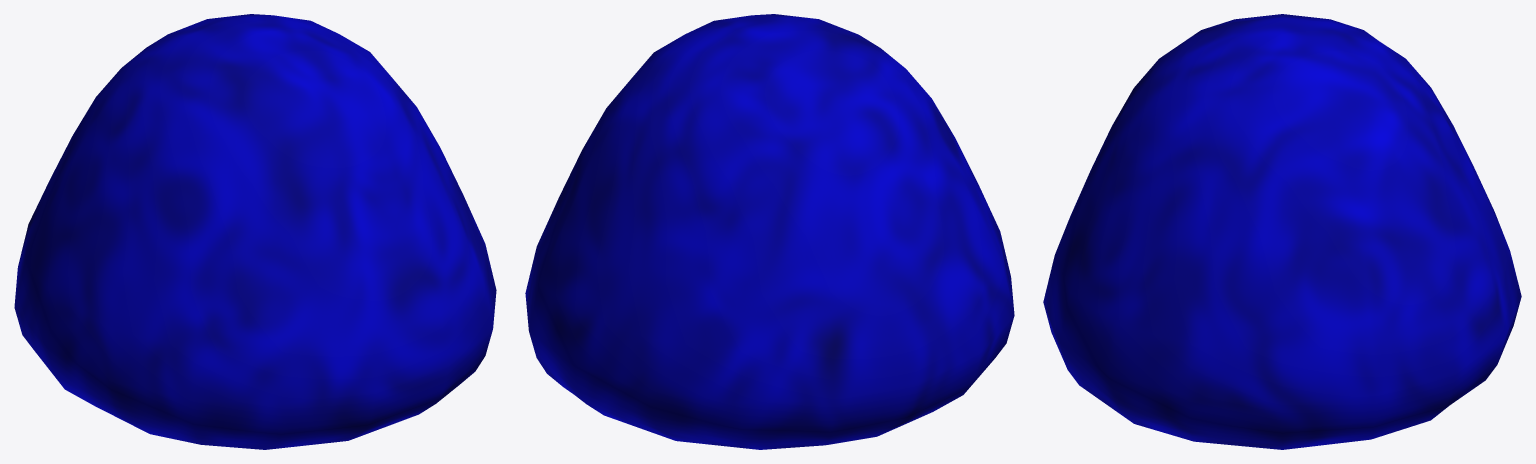
File: SlimeItem.fbx
The picture shows the model from 3 angles, left to right: view 1: azimuth 30°, elevation 25°; view 2: azimuth 150°, elevation 25°; view 3: azimuth 270°, elevation 25°; orthographic projection.
Visible parts, largest first — view 1: Slime; view 2: Slime; view 3: Slime.
Boxes of the visible parts, bbox=[...] form: Slime: bbox=[14, 14, 496, 449]; Slime: bbox=[525, 14, 1014, 449]; Slime: bbox=[1043, 14, 1521, 449].
Bounding box in the file's own units: 27.29 × 22.6 × 27.29.
